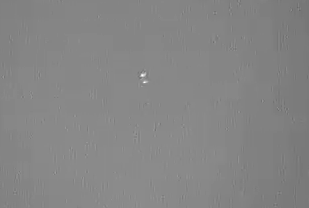Target: (141, 74, 148, 83)
